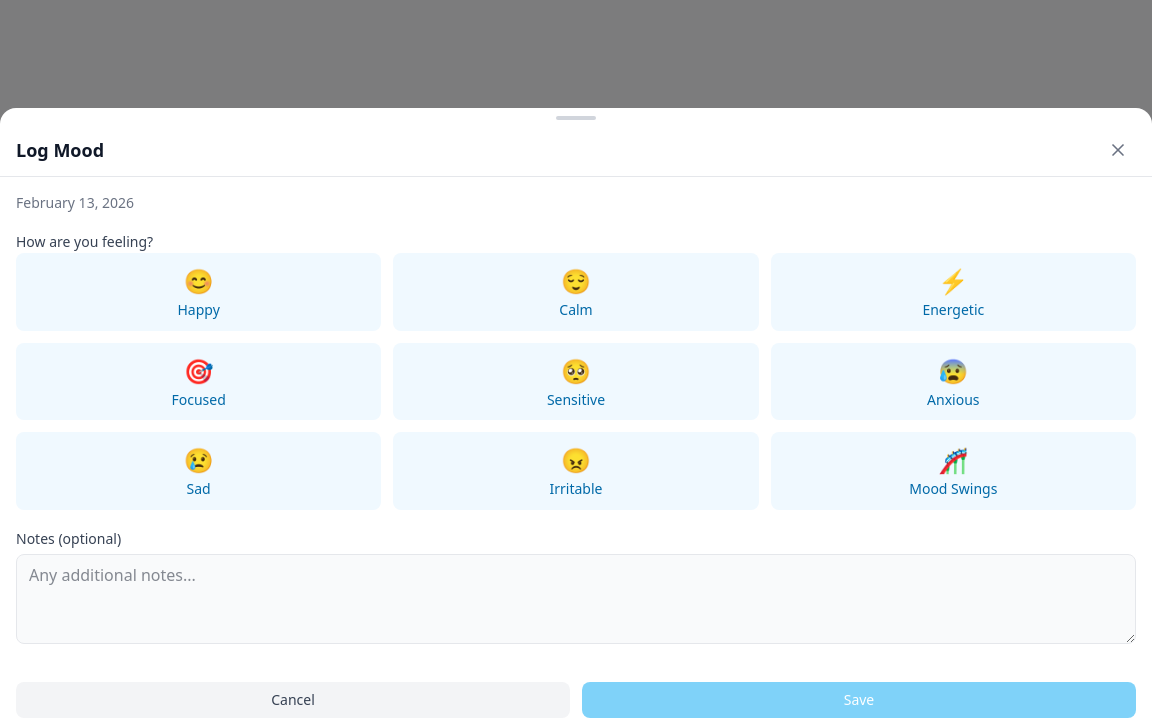
Test: MoodLogForm › save button state › should enable Save button when moods are selected
This screenshot has width=1152, height=720.
Click on a mood button to select it
Click the text "Happy" at (199, 310), box x1=178 y1=301 x2=220 y2=318
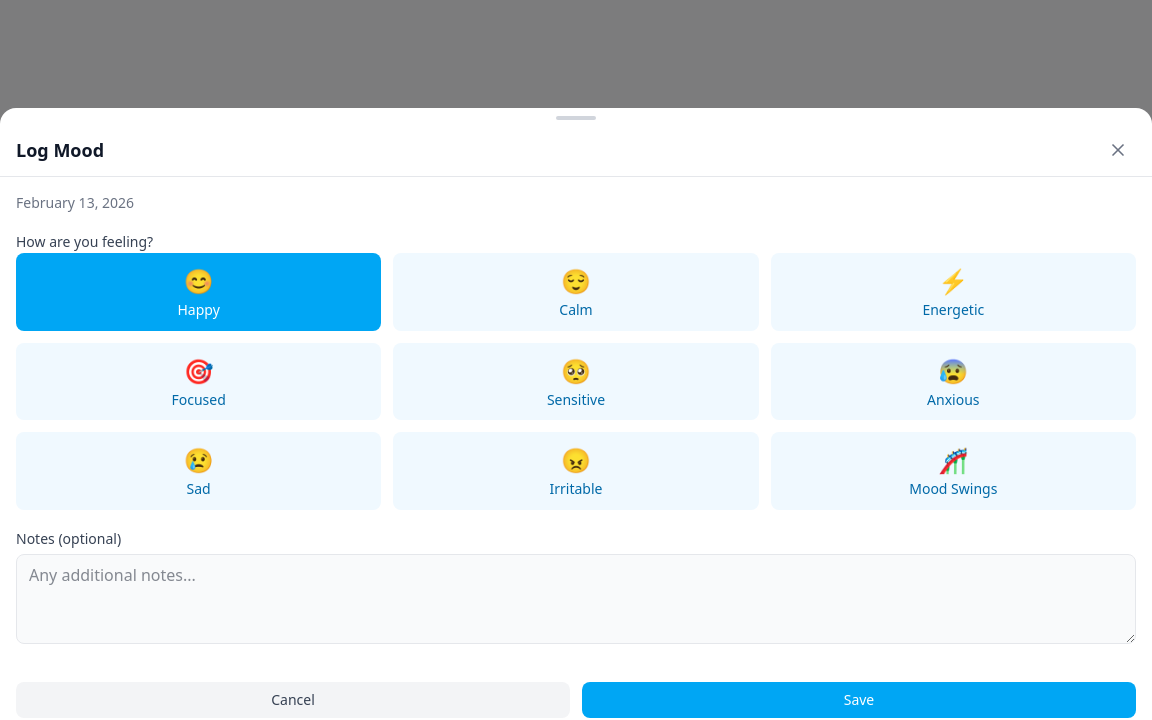
expect the button "Save" is enabled: met, box x1=582 y1=682 x2=1136 y2=718
